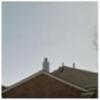chimneys: (43, 56, 50, 74)
